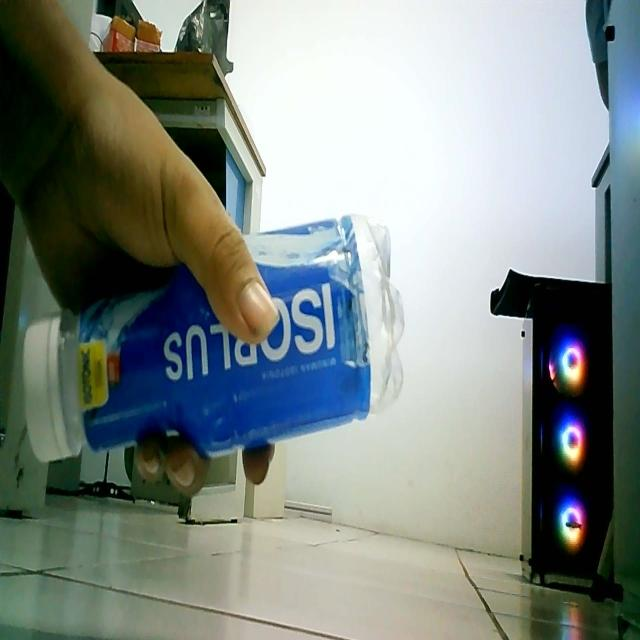botol: (9, 195, 432, 534)
